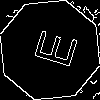E: (25, 25, 78, 70)
